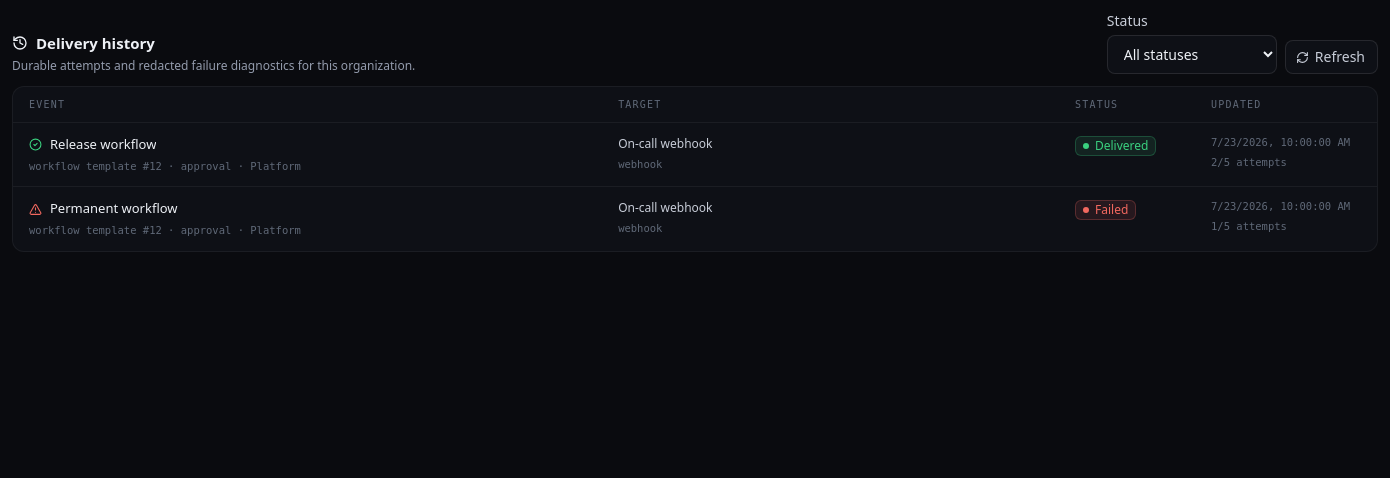
Test: notification delivery history › renders persisted retry completion and permanent failure attempts
Expected: the text "Permanent workflow" is shown, [50,199,178,219]
Click the text "Release workflow".
click(103, 145)  # box [50,135,156,154]
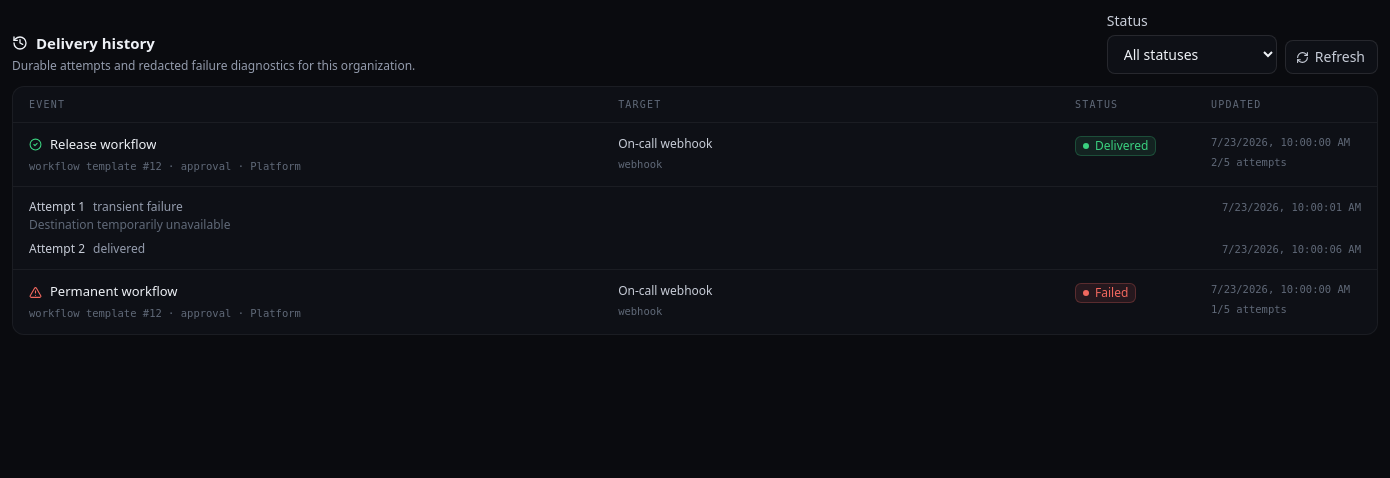
Expected: the text "Attempt 2" is shown, [29,240,85,257]
Click the text "Permanent workflow".
click(114, 292)  # box [50,282,178,302]
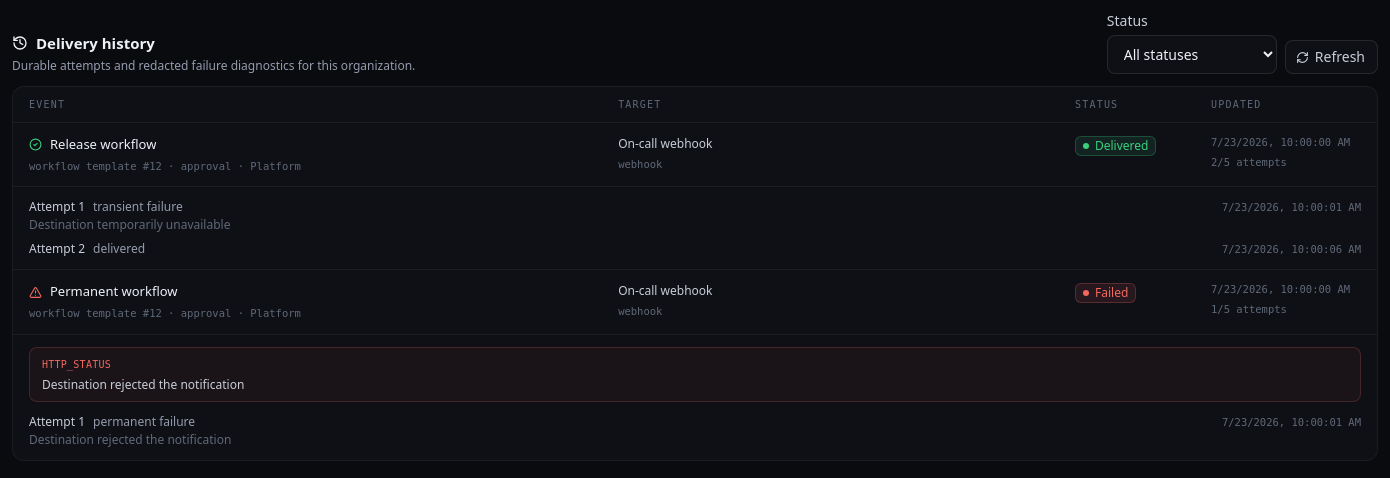
Expected: the text "Destination rejected the notification" is shown 2 times, [42,376,244,392]; [29,432,231,448]
